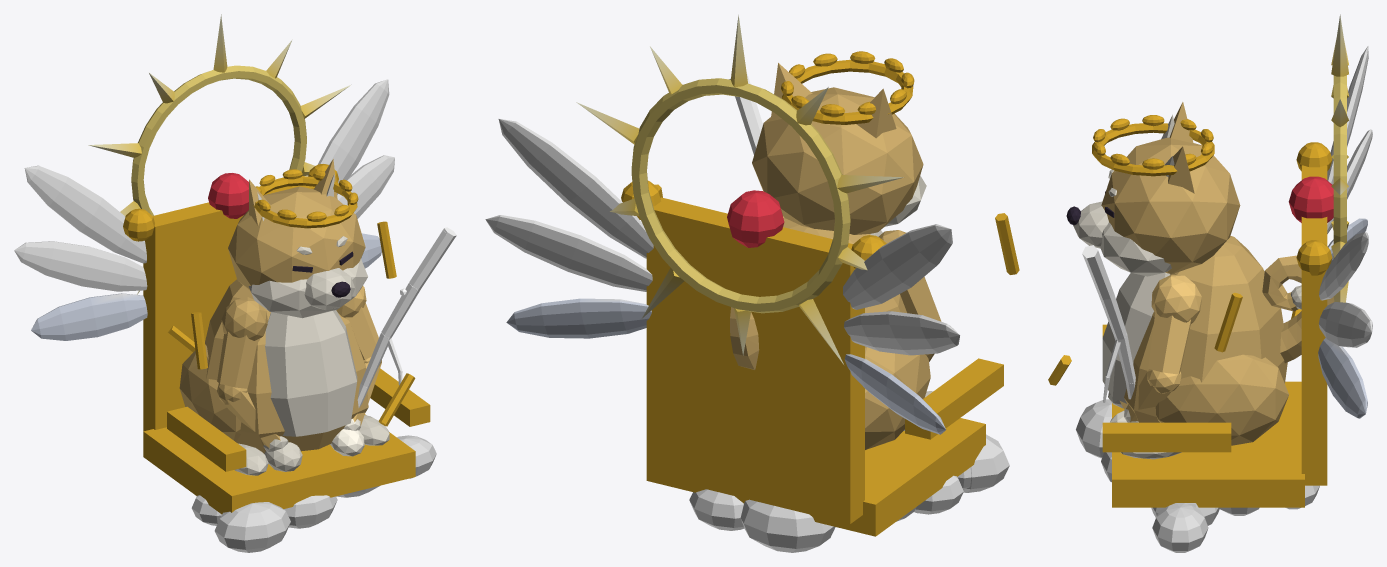
Rendered from CheemsGod.fbx.
3 renders of one model, left to right at view 1: azimuth 30°, elevation 25°; view 2: azimuth 150°, elevation 25°; view 3: azimuth 270°, elevation 25°, orthographic. The views are drawn at different scales.
Parts seen in each view (by area): view 1: Body, Stick, ThrowArm; view 2: Body, Stick; view 3: Body, ThrowArm, Stick.
Part boxes in pixels (x1,y1,x2,y2): Body: [14, 14, 436, 552]; Stick: [357, 227, 456, 407]; ThrowArm: [330, 286, 381, 456]; Body: [485, 15, 1019, 552]; Stick: [729, 73, 762, 154]; Body: [1048, 14, 1372, 552]; ThrowArm: [1110, 274, 1201, 422]; Stick: [1082, 245, 1135, 402].
Size of the model in its own units: 1.87 by 2.07 by 1.26.
